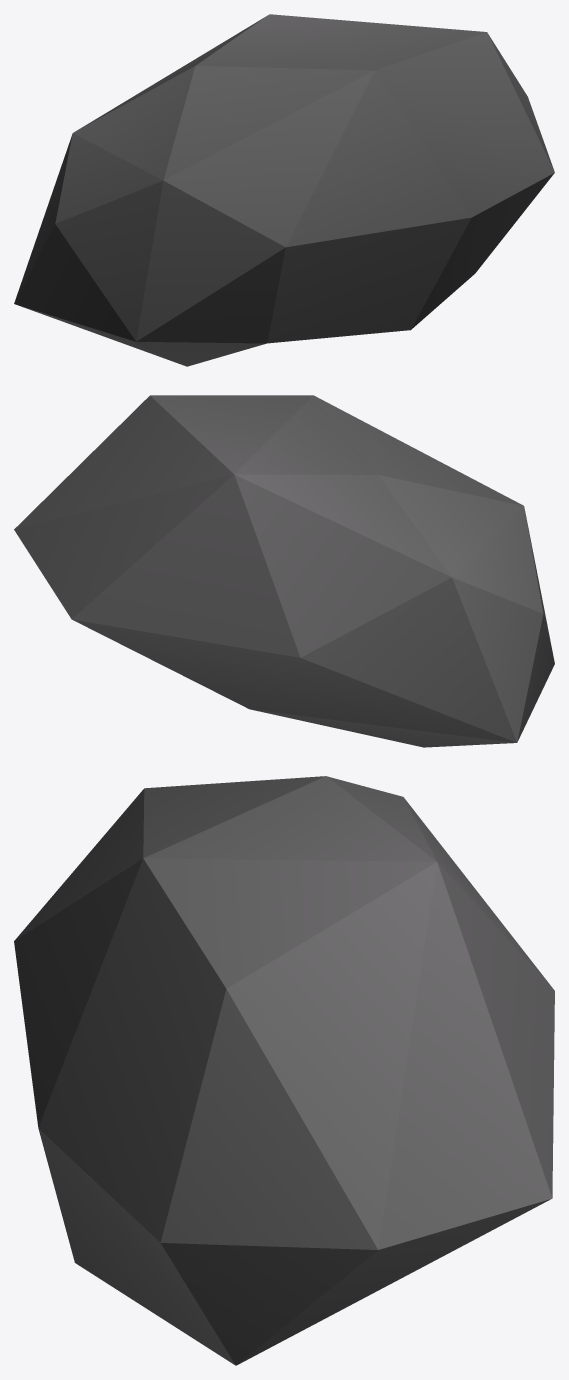
Rendered from Rock_1.fbx.
The picture shows the model from 3 angles, top to bottom: view 1: azimuth 30°, elevation 25°; view 2: azimuth 150°, elevation 25°; view 3: azimuth 270°, elevation 25°; orthographic projection. The views are drawn at different scales.
Parts seen in each view (by area): view 1: Rock_1; view 2: Rock_1; view 3: Rock_1.
Part boxes in pixels (x1,y1,x2,y2): Rock_1: [14, 14, 554, 366]; Rock_1: [14, 395, 554, 747]; Rock_1: [14, 776, 554, 1365].
Bounding box in the file's own units: 395 × 214 × 229.
